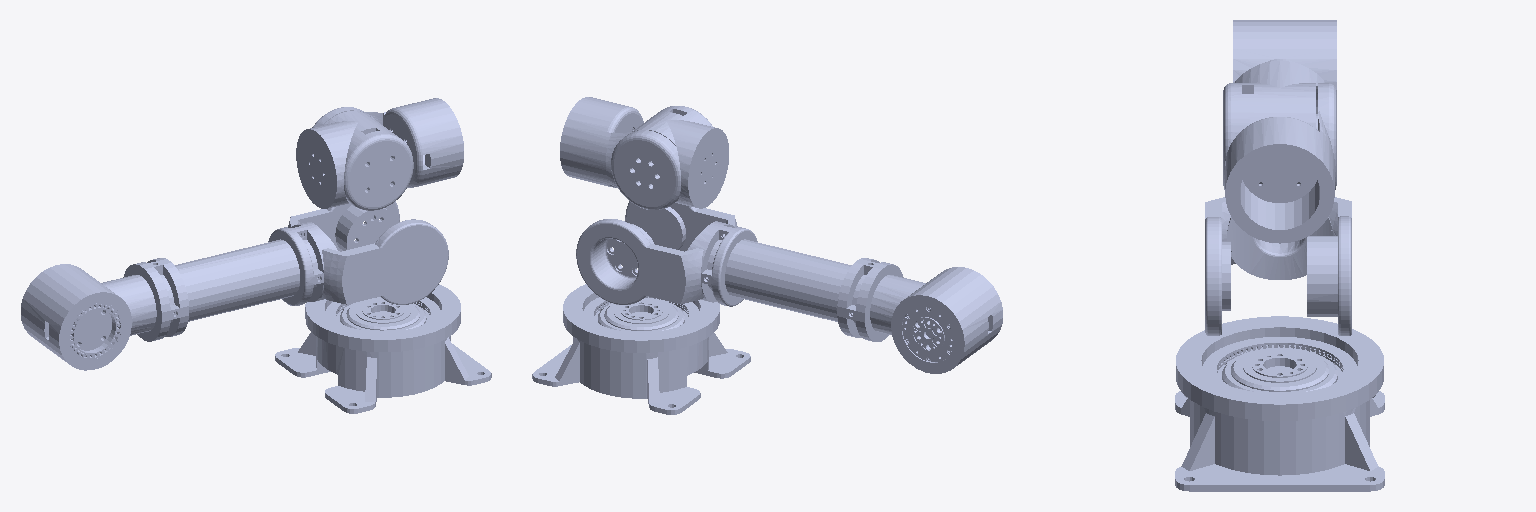
robot.urdf — HiFiFLYRobot:
<?xml version="1.0" encoding="utf-8"?>
<!-- This URDF was automatically created by SolidWorks to URDF Exporter! Originally created by Stephen Brawner (brawner@gmail.com) 
     Commit Version: 1.6.0-4-g7f85cfe  Build Version: 1.6.7995.38578
     For more information, please see http://wiki.ros.org/sw_urdf_exporter -->
<robot
  name="HiFiFLYRobot">
  <link
    name="Base_Link">
    <inertial>
      <origin
        xyz="0.0013242 1.7189E-05 0.031715"
        rpy="0 0 0" />
      <mass
        value="0.80534" />
      <inertia
        ixx="0.001276"
        ixy="-7.7963E-10"
        ixz="2.4972E-05"
        iyy="0.0012855"
        iyz="-1.1508E-08"
        izz="0.0020574" />
    </inertial>
    <visual>
      <origin
        xyz="0 0 0"
        rpy="0 0 0" />
      <geometry>
        <mesh
          filename="package://HiFiFLYRobot/meshes/Base_Link.STL" />
      </geometry>
      <material
        name="">
        <color
          rgba="0.79216 0.81961 0.93333 1" />
      </material>
    </visual>
    <collision>
      <origin
        xyz="0 0 0"
        rpy="0 0 0" />
      <geometry>
        <mesh
          filename="package://HiFiFLYRobot/meshes/Base_Link.STL" />
      </geometry>
    </collision>
  </link>
  <link
    name="Shoulder_Link">
    <inertial>
      <origin
        xyz="-0.00019472 0.0024977 -0.034161"
        rpy="0 0 0" />
      <mass
        value="0.63547" />
      <inertia
        ixx="0.0010209"
        ixy="-8.7754E-09"
        ixz="-1.1495E-08"
        iyy="0.0016264"
        iyz="-1.7212E-05"
        izz="0.0017869" />
    </inertial>
    <visual>
      <origin
        xyz="0 0 0"
        rpy="0 0 0" />
      <geometry>
        <mesh
          filename="package://HiFiFLYRobot/meshes/Shoulder_Link.STL" />
      </geometry>
      <material
        name="">
        <color
          rgba="0.79216 0.81961 0.93333 1" />
      </material>
    </visual>
    <collision>
      <origin
        xyz="0 0 0"
        rpy="0 0 0" />
      <geometry>
        <mesh
          filename="package://HiFiFLYRobot/meshes/Shoulder_Link.STL" />
      </geometry>
    </collision>
  </link>
  <joint
    name="Base_Joint"
    type="revolute">
    <origin
      xyz="0 0 0.1307"
      rpy="0 0 0" />
    <parent
      link="Base_Link" />
    <child
      link="Shoulder_Link" />
    <axis
      xyz="0 0 1" />
    <limit
      lower="-6.28"
      upper="6.28"
      effort="1"
      velocity="0.314" />
    <calibration
      rising="1"
      falling="1" />
    <dynamics
      damping="1"
      friction="1" />
    <safety_controller
      soft_upper_limit="6.1"
      soft_lower_limit="-6.1"
      k_position="2"
      k_velocity="0.5" />
  </joint>
  <link
    name="UpperArm_Link">
    <inertial>
      <origin
        xyz="0.19767 2.1176E-05 -0.00036858"
        rpy="0 0 0" />
      <mass
        value="0.93077" />
      <inertia
        ixx="0.00060866"
        ixy="-1.8532E-07"
        ixz="2.3998E-05"
        iyy="0.0017969"
        iyz="-4.4346E-08"
        izz="0.0018876" />
    </inertial>
    <visual>
      <origin
        xyz="0 0 0"
        rpy="0 0 0" />
      <geometry>
        <mesh
          filename="package://HiFiFLYRobot/meshes/UpperArm_Link.STL" />
      </geometry>
      <material
        name="">
        <color
          rgba="0.79216 0.81961 0.93333 1" />
      </material>
    </visual>
    <collision>
      <origin
        xyz="0 0 0"
        rpy="0 0 0" />
      <geometry>
        <mesh
          filename="package://HiFiFLYRobot/meshes/UpperArm_Link.STL" />
      </geometry>
    </collision>
  </link>
  <joint
    name="Shoulder_Joint"
    type="revolute">
    <origin
      xyz="0 0 0"
      rpy="-1.5708 0 3.1416" />
    <parent
      link="Shoulder_Link" />
    <child
      link="UpperArm_Link" />
    <axis
      xyz="0 0 1" />
    <limit
      lower="-3.1415"
      upper="0"
      effort="1"
      velocity="0.314" />
    <calibration
      rising="1"
      falling="1" />
    <dynamics
      damping="1"
      friction="1" />
    <safety_controller
      soft_upper_limit="-0.1"
      soft_lower_limit="-3.04"
      k_position="2"
      k_velocity="0.5" />
  </joint>
  <link
    name="ForeArm_Link">
    <inertial>
      <origin
        xyz="0.0746393468576063 0.0953396587919114 -0.00156760778716396"
        rpy="0 0 0" />
      <mass
        value="0.895503712188672" />
      <inertia
        ixx="0.00127305269611899"
        ixy="-0.000275881717706732"
        ixz="3.09079070040937E-05"
        iyy="0.00122538603246143"
        iyz="5.69417909355679E-06"
        izz="0.0014850633357988" />
    </inertial>
    <visual>
      <origin
        xyz="0 0 0"
        rpy="0 0 0" />
      <geometry>
        <mesh
          filename="package://HiFiFLYRobot/meshes/ForeArm_Link.STL" />
      </geometry>
      <material
        name="">
        <color
          rgba="0.792156862745098 0.819607843137255 0.933333333333333 1" />
      </material>
    </visual>
    <collision>
      <origin
        xyz="0 0 0"
        rpy="0 0 0" />
      <geometry>
        <mesh
          filename="package://HiFiFLYRobot/meshes/ForeArm_Link.STL" />
      </geometry>
    </collision>
  </link>
  <joint
    name="Elbow_Joint"
    type="revolute">
    <origin
      xyz="0.334 0 0"
      rpy="3.1416 0 -1.5708" />
    <parent
      link="UpperArm_Link" />
    <child
      link="ForeArm_Link" />
    <axis
      xyz="0 0 1" />
    <limit
      lower="-3.1415"
      upper="0"
      effort="1"
      velocity="0.314" />
    <calibration
      rising="1"
      falling="1" />
    <dynamics
      damping="1"
      friction="1" />
    <safety_controller
      soft_upper_limit="0"
      soft_lower_limit="-3.04"
      k_position="2"
      k_velocity="0.5" />
  </joint>
  <link
    name="Wrist1_Link">
    <inertial>
      <origin
        xyz="2.9873E-07 0.0056498 -0.0060226"
        rpy="0 0 0" />
      <mass
        value="0.30894" />
      <inertia
        ixx="0.00025349"
        ixy="6.7398E-10"
        ixz="-1.8872E-08"
        iyy="0.00028679"
        iyz="-1.9583E-05"
        izz="0.00023929" />
    </inertial>
    <visual>
      <origin
        xyz="0 0 0"
        rpy="0 0 0" />
      <geometry>
        <mesh
          filename="package://HiFiFLYRobot/meshes/Wrist1_Link.STL" />
      </geometry>
      <material
        name="">
        <color
          rgba="0.79216 0.81961 0.93333 1" />
      </material>
    </visual>
    <collision>
      <origin
        xyz="0 0 0"
        rpy="0 0 0" />
      <geometry>
        <mesh
          filename="package://HiFiFLYRobot/meshes/Wrist1_Link.STL" />
      </geometry>
    </collision>
  </link>
  <joint
    name="Wrist1_Joint"
    type="revolute">
    <origin
      xyz="0.0955 0.30739 0"
      rpy="-1.5708 0 0" />
    <parent
      link="ForeArm_Link" />
    <child
      link="Wrist1_Link" />
    <axis
      xyz="0 0 1" />
    <limit
      lower="-6.28"
      upper="6.28"
      effort="1"
      velocity="0.314" />
    <calibration
      rising="1"
      falling="1" />
    <dynamics
      damping="1"
      friction="1" />
    <safety_controller
      soft_upper_limit="6.1"
      soft_lower_limit="-6.1"
      k_position="2"
      k_velocity="0.5" />
  </joint>
  <link
    name="Wrist2_Link">
    <inertial>
      <origin
        xyz="3.86E-08 0.043644 0.011813"
        rpy="0 0 0" />
      <mass
        value="0.18314" />
      <inertia
        ixx="0.00033593"
        ixy="9.3423E-11"
        ixz="-6.102E-11"
        iyy="0.00019834"
        iyz="8.8224E-05"
        izz="0.00031562" />
    </inertial>
    <visual>
      <origin
        xyz="0 0 0"
        rpy="0 0 0" />
      <geometry>
        <mesh
          filename="package://HiFiFLYRobot/meshes/Wrist2_Link.STL" />
      </geometry>
      <material
        name="">
        <color
          rgba="0.79216 0.81961 0.93333 1" />
      </material>
    </visual>
    <collision>
      <origin
        xyz="0 0 0"
        rpy="0 0 0" />
      <geometry>
        <mesh
          filename="package://HiFiFLYRobot/meshes/Wrist2_Link.STL" />
      </geometry>
    </collision>
  </link>
  <joint
    name="Wrist2_Joint"
    type="revolute">
    <origin
      xyz="0 0 0"
      rpy="1.5708 0 0" />
    <parent
      link="Wrist1_Link" />
    <child
      link="Wrist2_Link" />
    <axis
      xyz="0 0 1" />
    <limit
      lower="-2.1"
      upper="2.1"
      effort="1"
      velocity="0.314" />
    <calibration
      rising="1"
      falling="1" />
    <dynamics
      damping="1"
      friction="1" />
    <safety_controller
      soft_upper_limit="1.9"
      soft_lower_limit="-1.9"
      k_position="2"
      k_velocity="0.5" />
  </joint>
  <link
    name="End_Link">
    <inertial>
      <origin
        xyz="7.99386670311819E-05 -1.53816103177609E-06 -0.0218812695078399"
        rpy="0 0 0" />
      <mass
        value="0.102675092817205" />
      <inertia
        ixx="3.01306962364244E-05"
        ixy="2.71997236987955E-08"
        ixz="4.18287122490592E-08"
        iyy="3.01094214784084E-05"
        iyz="5.23144323717687E-10"
        izz="4.20261037069414E-05" />
    </inertial>
    <visual>
      <origin
        xyz="0 0 0"
        rpy="0 0 0" />
      <geometry>
        <mesh
          filename="package://HiFiFLYRobot/meshes/End_Link.STL" />
      </geometry>
      <material
        name="">
        <color
          rgba="0.792156862745098 0.819607843137255 0.933333333333333 1" />
      </material>
    </visual>
    <collision>
      <origin
        xyz="0 0 0"
        rpy="0 0 0" />
      <geometry>
        <mesh
          filename="package://HiFiFLYRobot/meshes/End_Link.STL" />
      </geometry>
    </collision>
  </link>
  <joint
    name="Wrist3_Joint"
    type="revolute">
    <origin
      xyz="0 0.094 0"
      rpy="-1.5708 0 0" />
    <parent
      link="Wrist2_Link" />
    <child
      link="End_Link" />
    <axis
      xyz="0 0 1" />
    <limit
      lower="-6.28"
      upper="6.28"
      effort="1"
      velocity="0.314" />
    <calibration
      rising="1"
      falling="1" />
    <dynamics
      damping="1"
      friction="1" />
    <safety_controller
      soft_upper_limit="6.1"
      soft_lower_limit="-6.1"
      k_position="2"
      k_velocity="0.5" />
  </joint>
</robot>

--- Render facts (derived) ---
Views: 3 orthographic renders of the robot side by side, from view 1: azimuth 30°, elevation 25°; view 2: azimuth 150°, elevation 25°; view 3: azimuth 270°, elevation 25°.
Robot: HiFiFLYRobot — 7 links, 6 joints (6 revolute); root link Base_Link; default pose: every joint at zero.
Links seen in each view (by area): view 1: UpperArm_Link, Base_Link, Wrist1_Link, Wrist2_Link; view 2: UpperArm_Link, Base_Link, Wrist2_Link, Wrist1_Link; view 3: Base_Link, UpperArm_Link, Wrist2_Link, Wrist1_Link.
Link boxes in pixels (box(x1,y1,x2,y2)): UpperArm_Link: box(21, 201, 448, 370); Base_Link: box(275, 284, 491, 413); Wrist1_Link: box(296, 111, 413, 210); Wrist2_Link: box(312, 98, 463, 187); UpperArm_Link: box(576, 201, 1002, 373); Base_Link: box(532, 284, 750, 414); Wrist2_Link: box(560, 97, 680, 209); Wrist1_Link: box(632, 106, 728, 208); Base_Link: box(1175, 316, 1384, 491); UpperArm_Link: box(1205, 20, 1351, 335); Wrist2_Link: box(1225, 83, 1336, 243); Wrist1_Link: box(1223, 61, 1324, 189).
Bounding box of the posed robot: 0.4539 × 0.148 × 0.2651 m (x, y, z).
4 mesh visuals loaded from 7 distinct referenced files (4 binary STL); not drawn: 3 (reference not matched to a file when rendering).
